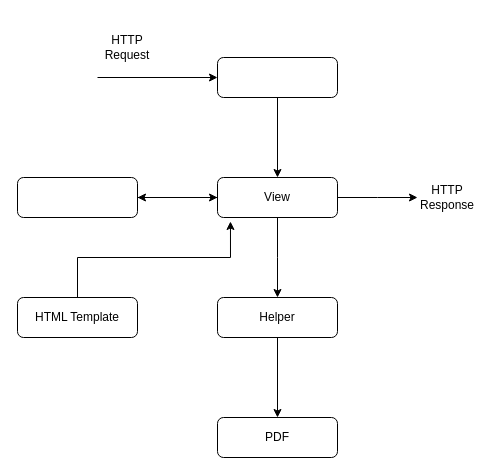
This 495x475 diagram has some shape labels left out. Here are the shapes that lost their labels. From the top down, the centre of each, then its label:
(x=277, y=77): URLs
(x=77, y=197): Models
